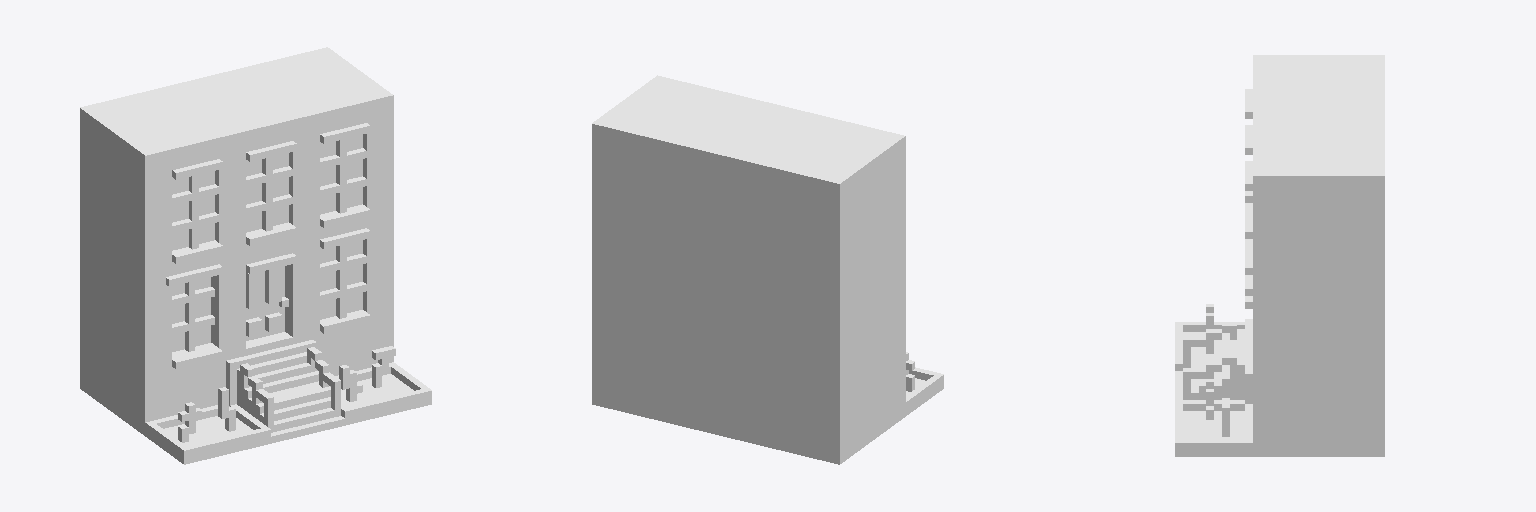
File: Depa2.obj
3 renders of one model, left to right at view 1: azimuth 30°, elevation 25°; view 2: azimuth 150°, elevation 25°; view 3: azimuth 270°, elevation 25°, orthographic.
Parts seen in each view (by area): view 1: object 1; view 2: object 1; view 3: object 1.
Boxes of the visible parts, x1,y1,x2,y2 form: object 1: [80, 47, 431, 464]; object 1: [592, 75, 943, 464]; object 1: [1175, 55, 1384, 456].
Bounding box in the file's own units: 3.7 × 4 × 2.7.